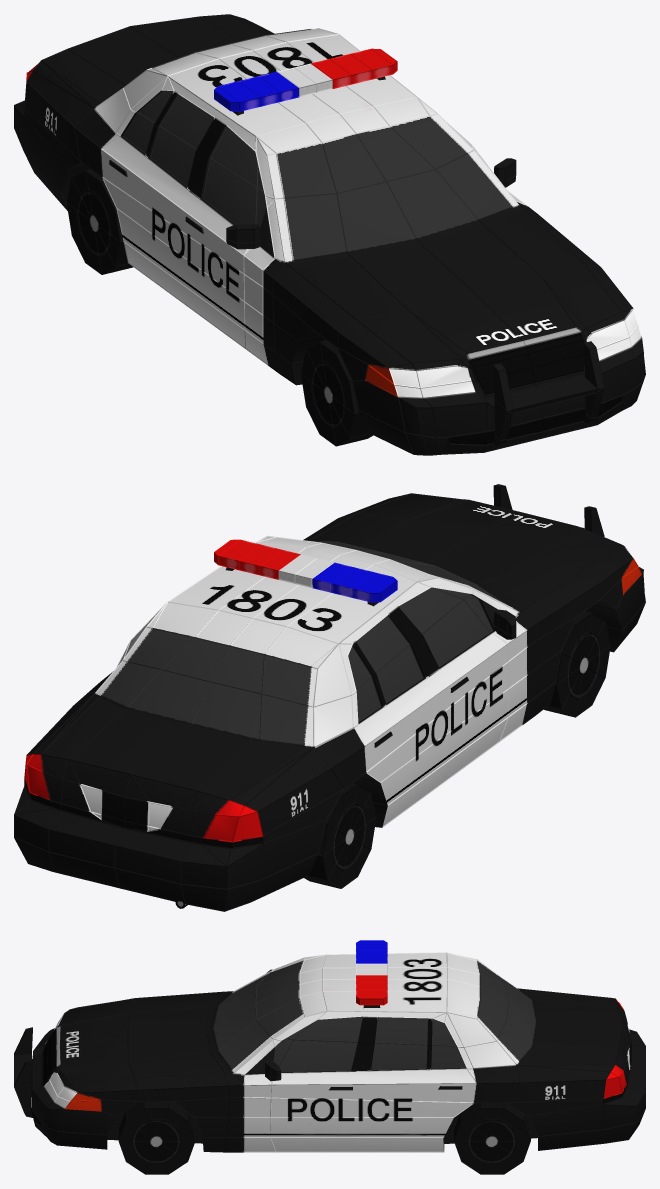
The model's file is policesedan.obj.
The picture shows the model from 3 angles, top to bottom: view 1: azimuth 30°, elevation 25°; view 2: azimuth 150°, elevation 25°; view 3: azimuth 270°, elevation 25°; orthographic projection. The views are drawn at different scales.
Visible parts, largest first — view 1: Cube.000_Cube.002, Cylinder.000, Cylinder.001, Cylinder.004, Cylinder.005; view 2: Cube.000_Cube.002, Cylinder.001, Cylinder.000, Cylinder.005, Cylinder.004; view 3: Cube.000_Cube.002, Cylinder.006, Cylinder.007.
Part boxes in pixels (x1,y1,x2,y2): Cube.000_Cube.002: (14, 14, 645, 455); Cylinder.000: (302, 341, 372, 445); Cylinder.001: (68, 170, 132, 273); Cylinder.004: (301, 340, 373, 446); Cylinder.005: (66, 169, 133, 274); Cube.000_Cube.002: (14, 484, 645, 911); Cylinder.001: (305, 784, 375, 887); Cylinder.000: (544, 612, 609, 716); Cylinder.005: (304, 783, 376, 888); Cylinder.004: (543, 611, 610, 717); Cube.000_Cube.002: (14, 940, 645, 1152); Cylinder.006: (118, 1102, 195, 1174); Cylinder.007: (454, 1103, 530, 1174).
Size of what is drawn, in the model's own units: 2.55 by 1.89 by 6.74.
